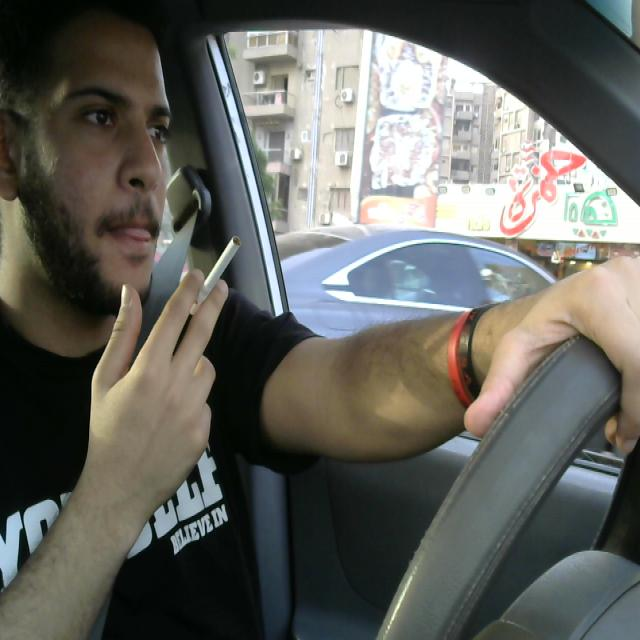smoking: (178, 224, 248, 332)
